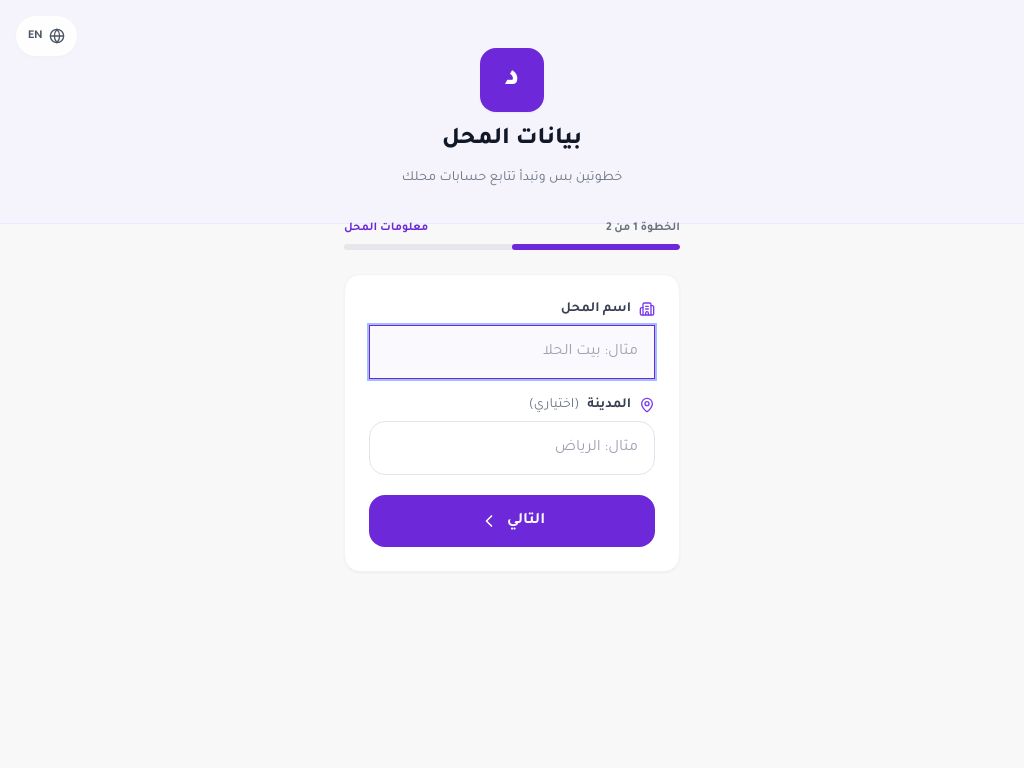
it: صفحة الإعداد الأولي (Onboarding) › الخطوة الأولى – معلومات المحل › يعرض خطأ إذا ضغط التالي بدون اسم
Click the button "التالي" at (512,521), box [369,495,655,547]
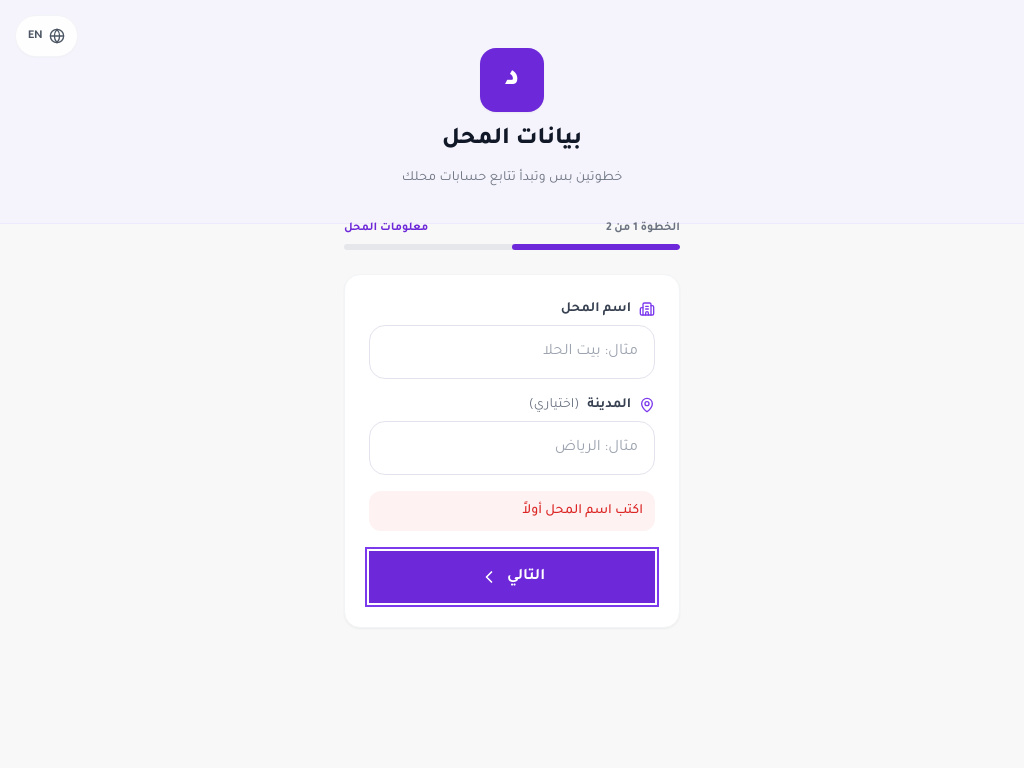
Now the text "اكتب اسم المحل أولاً" is shown, box [369,491,655,531]
